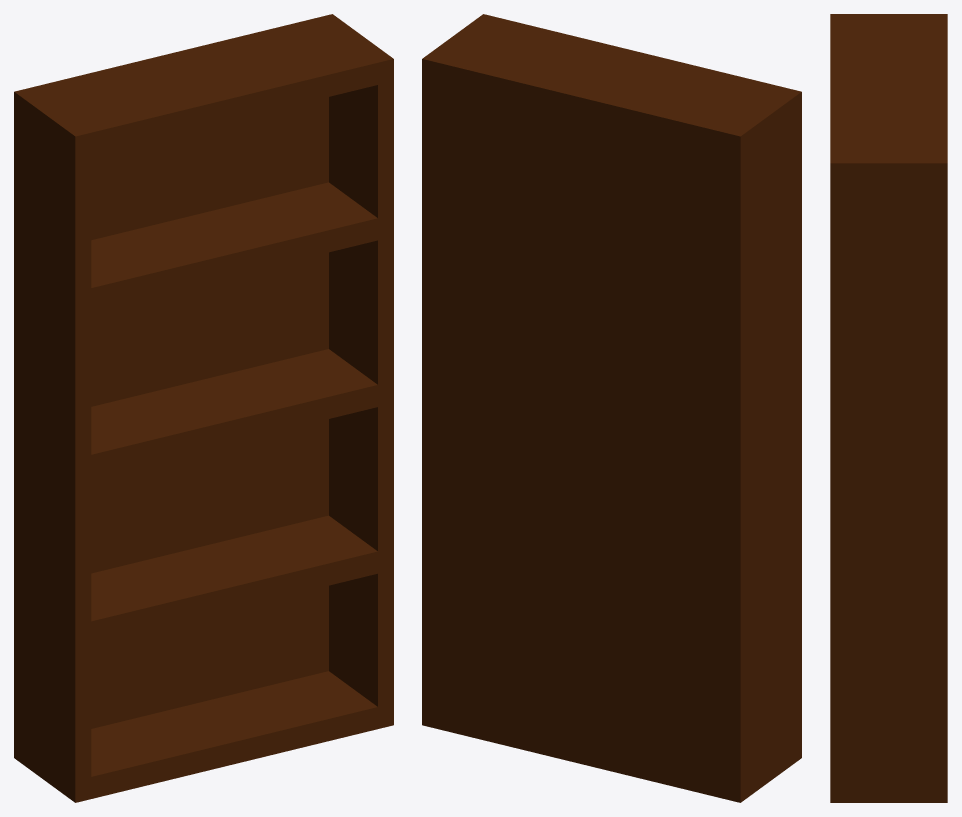
File: Shelf.fbx
3 views of the same model, side by side, from view 1: azimuth 30°, elevation 25°; view 2: azimuth 150°, elevation 25°; view 3: azimuth 270°, elevation 25° (orthographic). The views are drawn at different scales.
Visible parts, largest first — view 1: Shelf; view 2: Shelf; view 3: Shelf.
Boxes of the visible parts, left/top/right/bottom form: Shelf: left=14, top=14, right=393, bottom=802; Shelf: left=422, top=14, right=801, bottom=802; Shelf: left=830, top=14, right=947, bottom=802.
Size of the model in its own units: 300 by 600 by 100.
